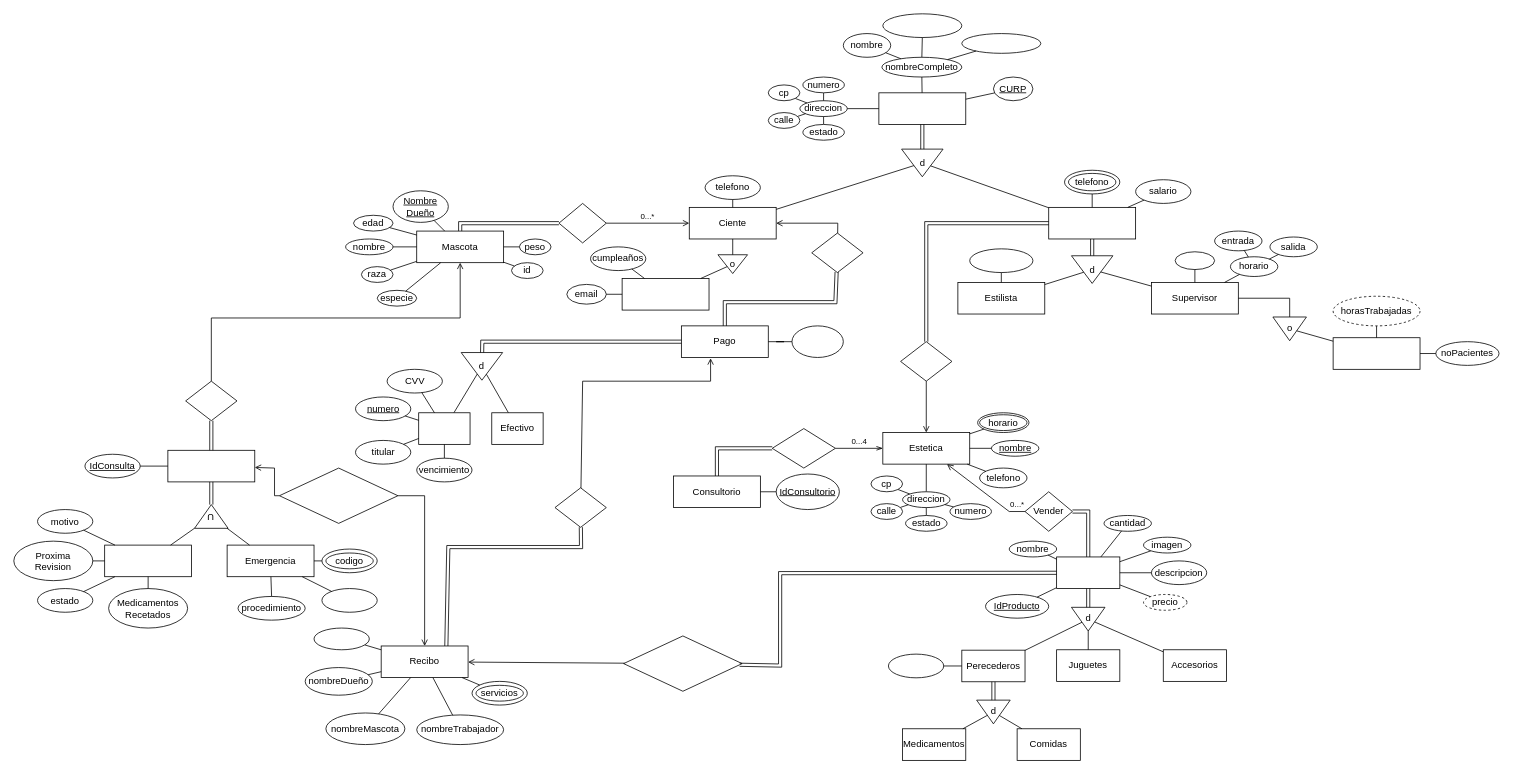
This 1513x774 diagram has some shape labels left out. The shapes that lost their labels are listed below. From the top down, each one's centre as x and y in pixels, then its label:
the point at 922,25: apellido_materno
the point at 1001,43: apellido_paterno
the point at 922,108: Persona
the point at 582,223: Tener
the point at 1092,223: Trabajador
the point at 837,252: Poseer
the point at 1001,260: noCertificado
the point at 1194,260: RFC
the point at 665,294: ClienteFrecuente
the point at 817,341: IdPago
the point at 926,361: Trabajar
the point at 1376,353: Veterinario
the point at 211,400: Requerir
the point at 444,428: Tarjeta
the point at 803,448: Administrar
the point at 211,466: Consulta
the point at 338,495: Generar Recibo Consulta
the point at 580,507: Pagar
the point at 148,560: Normal
the point at 1088,572: Producto
the point at 349,600: sintomas
the point at 341,638: IdRecibo
the point at 682,663: Generar Recibo Productos
the point at 916,665: caducidad
